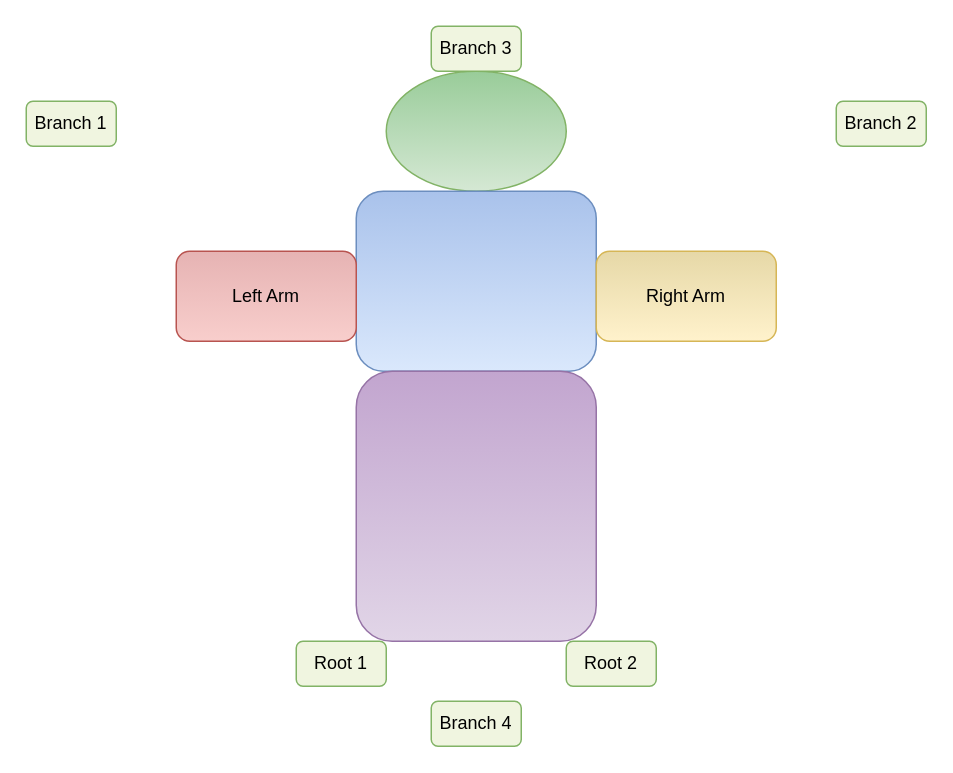
This 953x773 diagram has some shape labels left out. The shapes that lost their labels are listed below. From the top down, each one's centre as x and y in pixels, then its label:
At point (475, 130): "Head".
At point (475, 280): "Torso".
At point (475, 505): "Legs".
